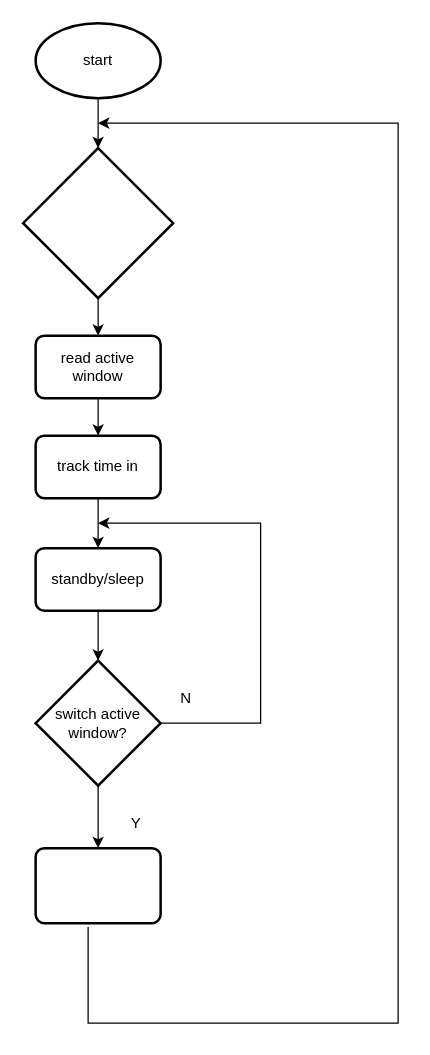
Image size: 430x1055. Some labels were removed from this diagram. Each missing label, with the box of its shape:
there is an active program?: (21, 146, 174, 299)
track time out: (34, 846, 161, 924)
